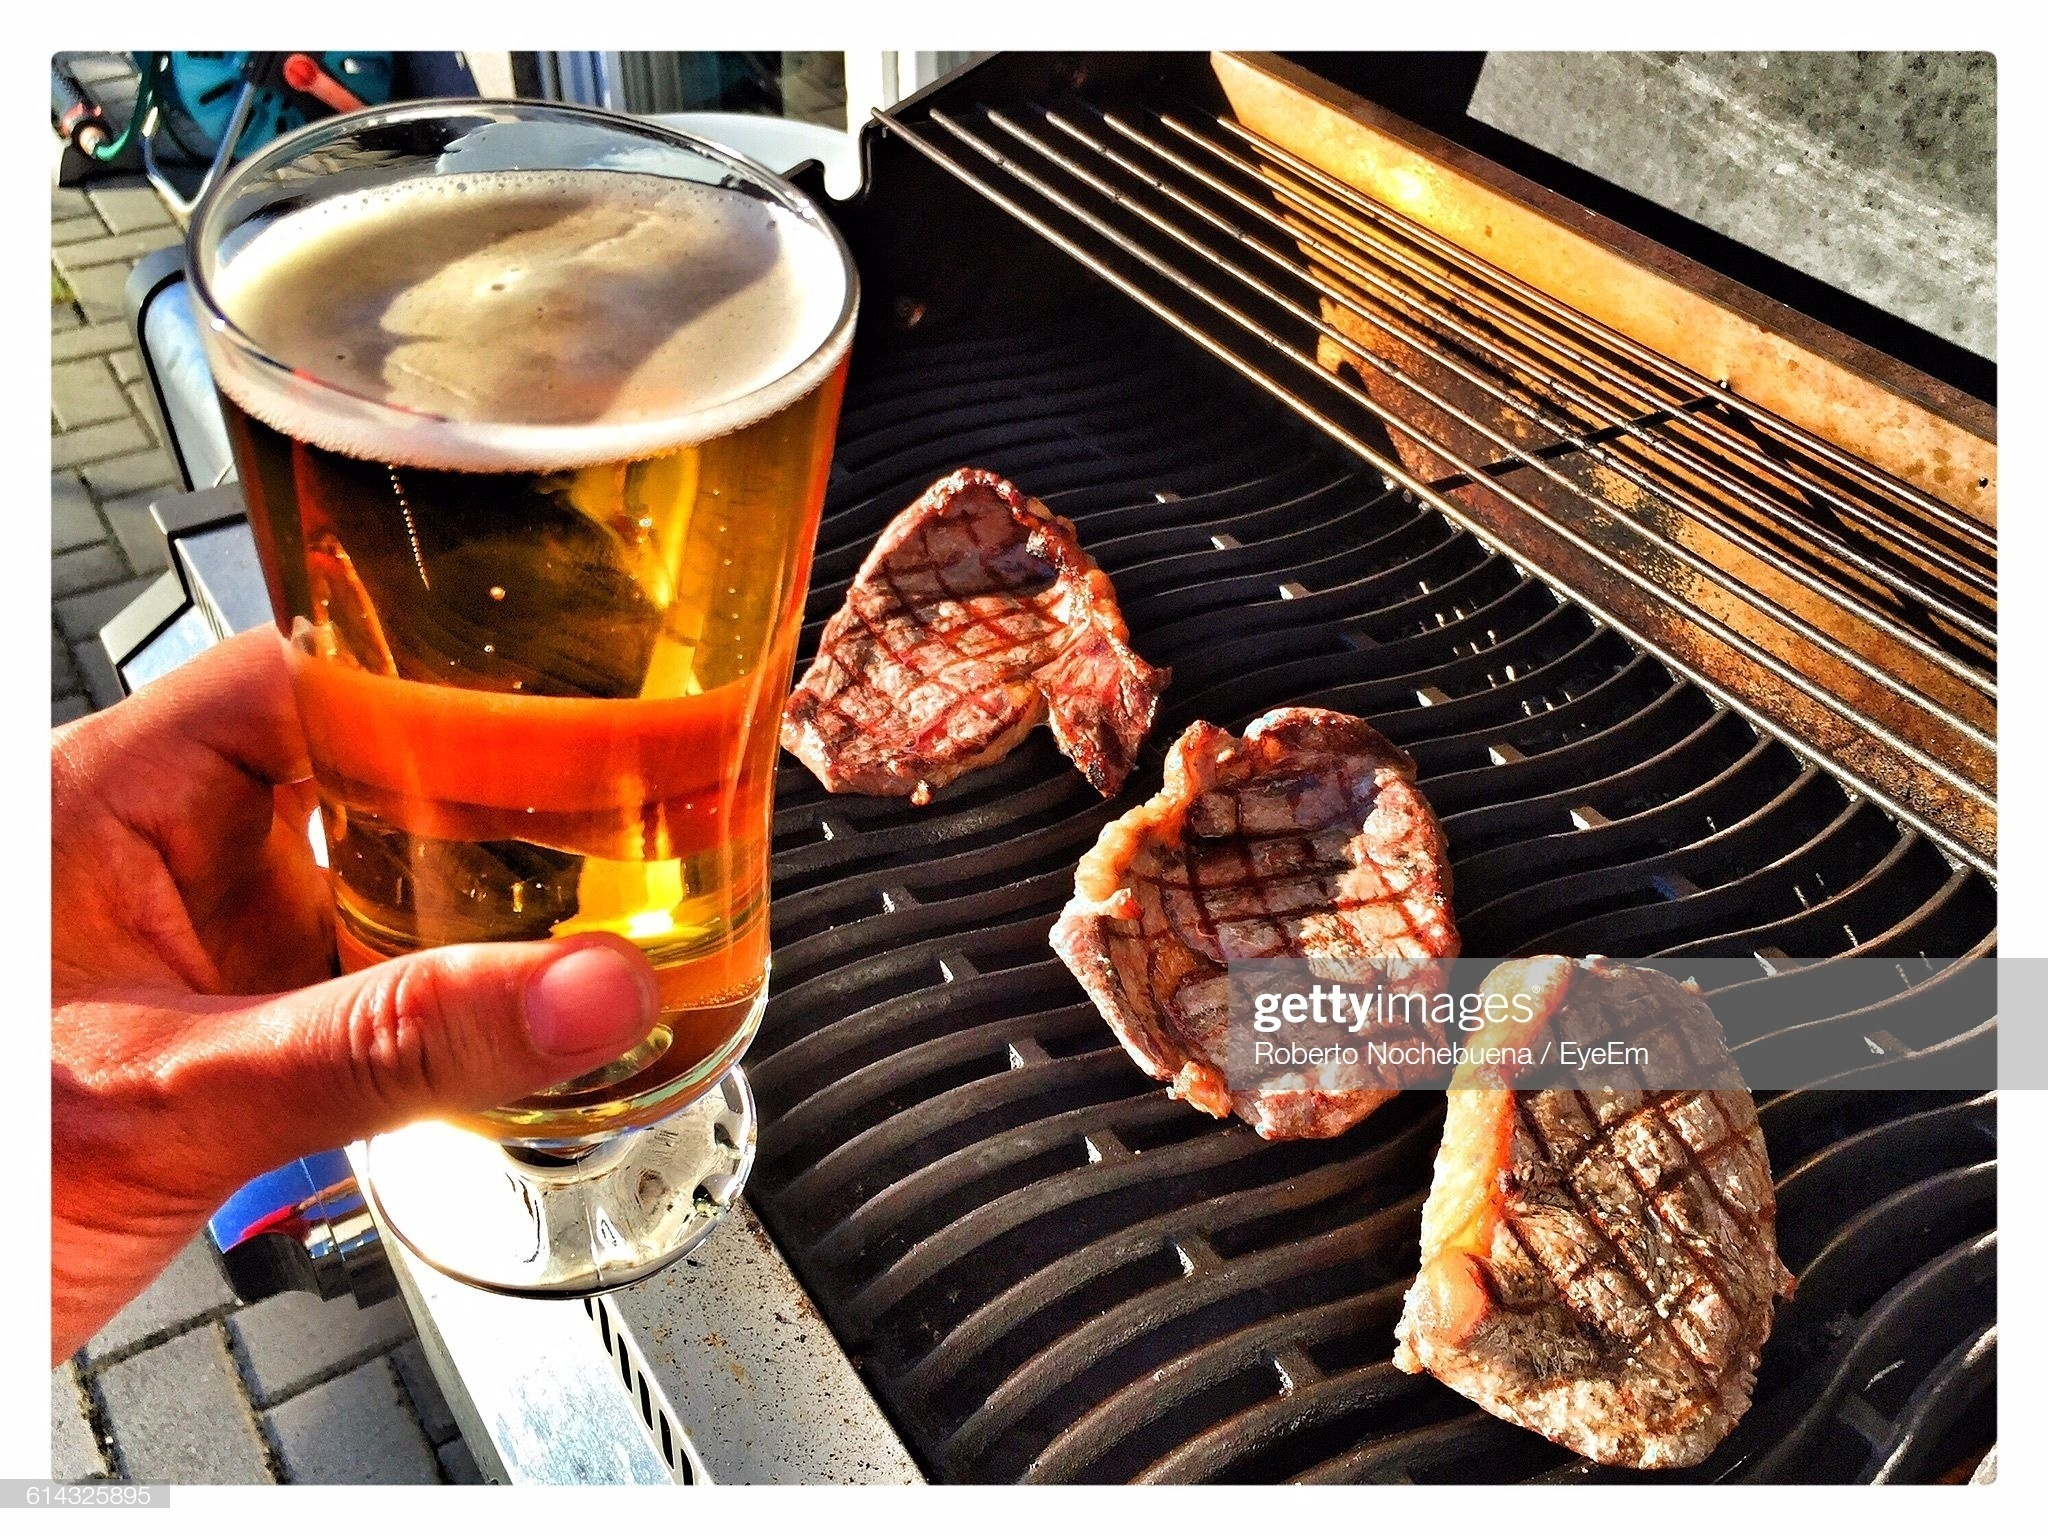whiskey: (176, 90, 822, 1297)
